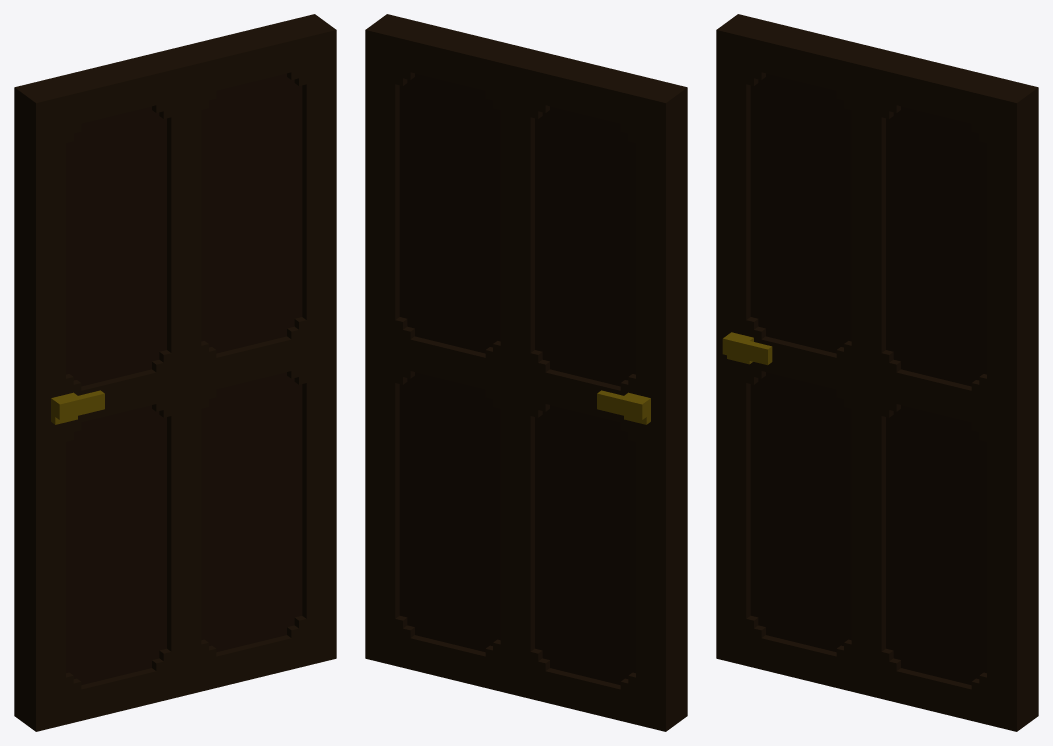
Rendered from dver.obj.
3 renders of one model, left to right at view 1: azimuth 30°, elevation 25°; view 2: azimuth 150°, elevation 25°; view 3: azimuth 330°, elevation 25°, orthographic.
Size of the model in its own units: 4 by 8 by 0.9.
1 material, 1 textured.
